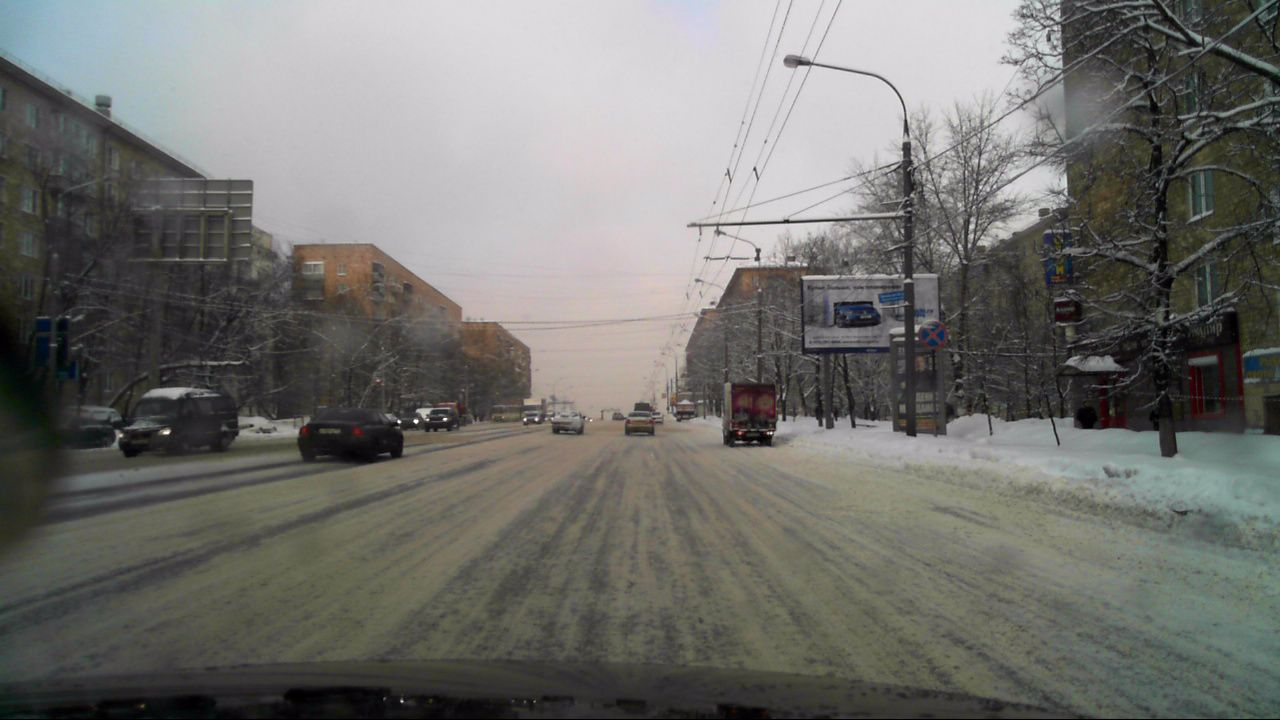No Parking: (915, 319, 944, 350)
